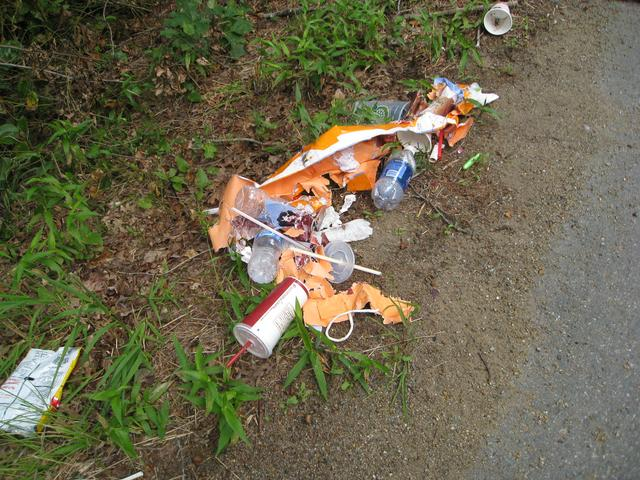garbage: (234, 179, 353, 323)
